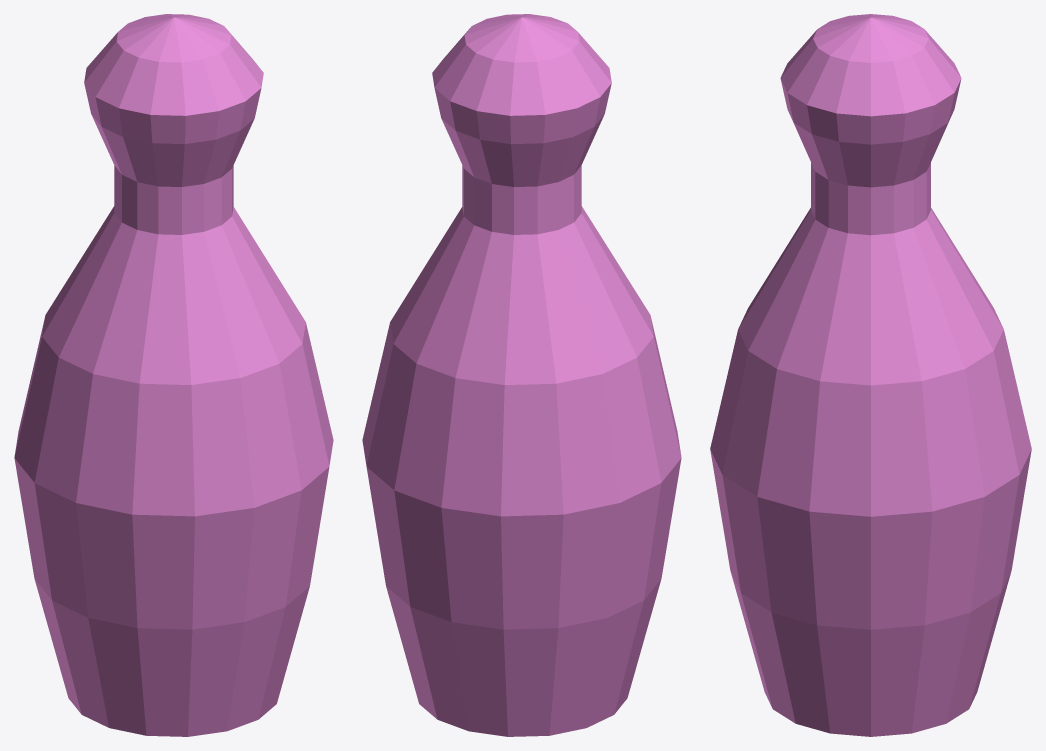
Rendered from PinFBX.fbx.
The picture shows the model from 3 angles, left to right: view 1: azimuth 30°, elevation 25°; view 2: azimuth 150°, elevation 25°; view 3: azimuth 270°, elevation 25°; orthographic projection.
Parts seen in each view (by area): view 1: Circle; view 2: Circle; view 3: Circle.
Boxes of the visible parts, x1,y1,x2,y2 form: Circle: (14,14,333,736); Circle: (362,14,681,736); Circle: (710,14,1031,736).
Size of the model in its own units: 116 by 270 by 116.
